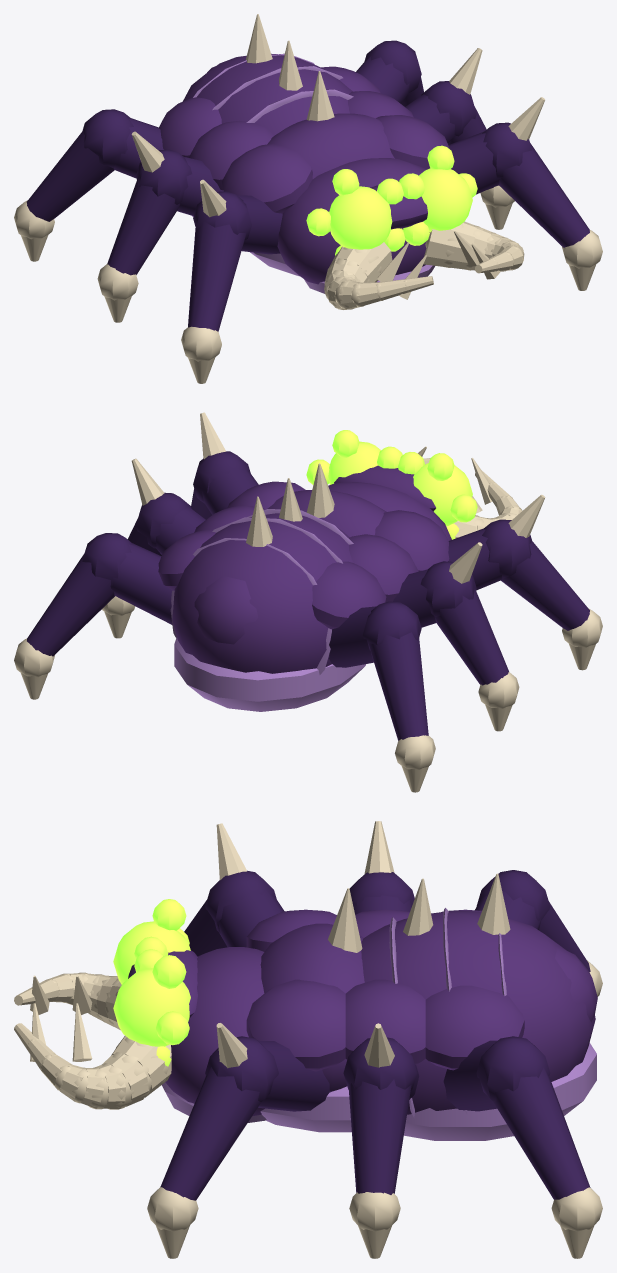
Rendered from skitter.fbx.
The picture shows the model from 3 angles, top to bottom: view 1: azimuth 30°, elevation 25°; view 2: azimuth 150°, elevation 25°; view 3: azimuth 270°, elevation 25°; orthographic projection. The views are drawn at different scales.
Parts seen in each view (by area): view 1: Legs, Body, Trim, Eye, Belly; view 2: Body, Legs, Trim, Belly, Eye; view 3: Body, Legs, Trim, Eye, Belly.
Part boxes in pixels (x1,y1,x2,y2): Legs: [26, 40, 589, 331]; Body: [159, 53, 449, 284]; Trim: [14, 14, 602, 383]; Eye: [306, 145, 477, 255]; Belly: [192, 53, 434, 293]; Body: [158, 465, 451, 673]; Legs: [27, 451, 589, 740]; Trim: [14, 412, 602, 792]; Belly: [170, 509, 365, 711]; Eye: [306, 430, 477, 539]; Body: [128, 909, 597, 1116]; Legs: [160, 870, 590, 1200]; Trim: [14, 821, 602, 1258]; Eye: [113, 899, 190, 1066]; Belly: [162, 908, 596, 1140].
Size of the model in its own units: 5.48 by 2.8 by 5.53.
